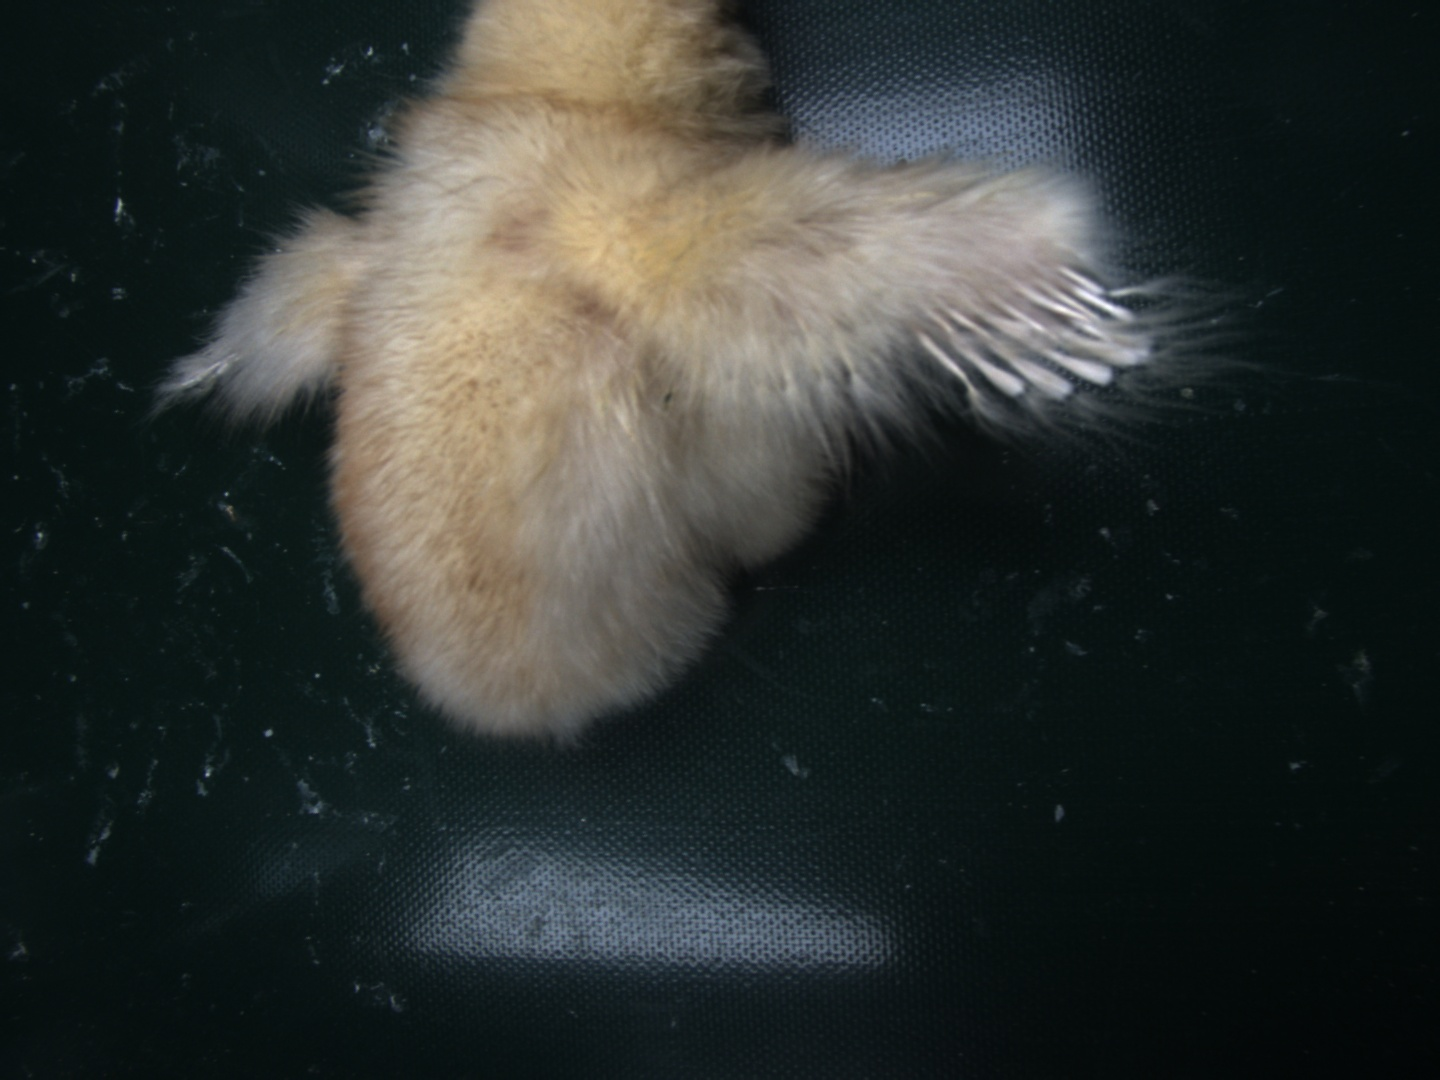female: (913, 261, 1162, 419)
